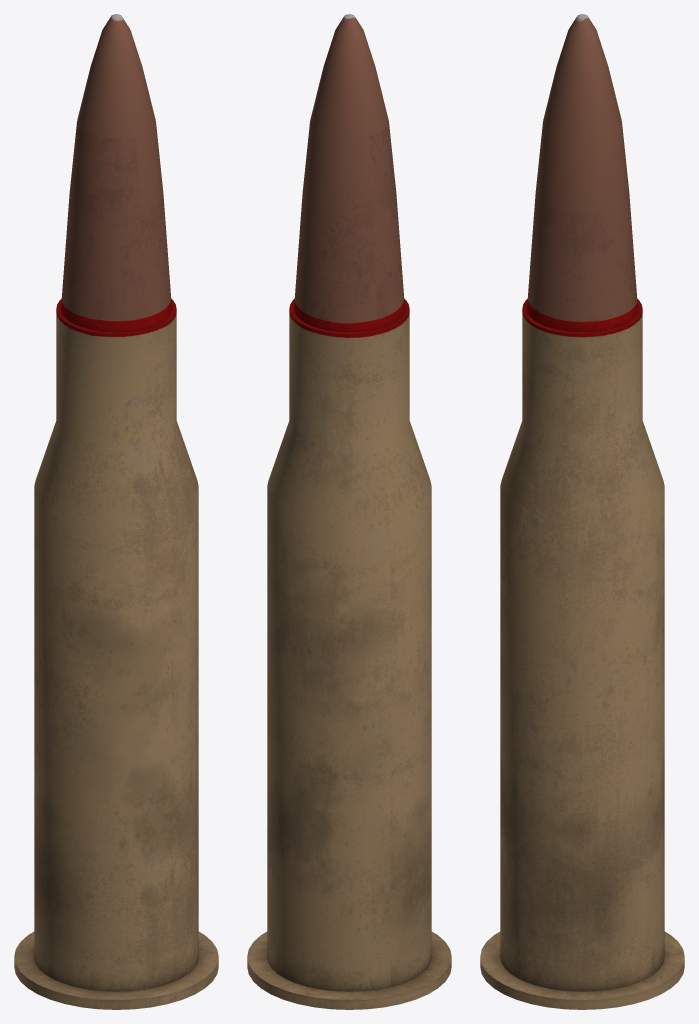
Rendered from 7.62x54mm R BT gzh.glb.
3 views of the same model, side by side, from view 1: azimuth 30°, elevation 25°; view 2: azimuth 150°, elevation 25°; view 3: azimuth 270°, elevation 25° (orthographic).
Visible parts, largest first — view 1: 7_62x54r_4_1; view 2: 7_62x54r_4_1; view 3: 7_62x54r_4_1.
Part boxes in pixels (x1,y1,x2,y2): 7_62x54r_4_1: [14, 14, 218, 1009]; 7_62x54r_4_1: [247, 14, 451, 1009]; 7_62x54r_4_1: [480, 14, 684, 1009].
Size of the model in its own units: 0.0866 by 0.4495 by 0.0866.
Materials: 1 (1 with a texture image).
